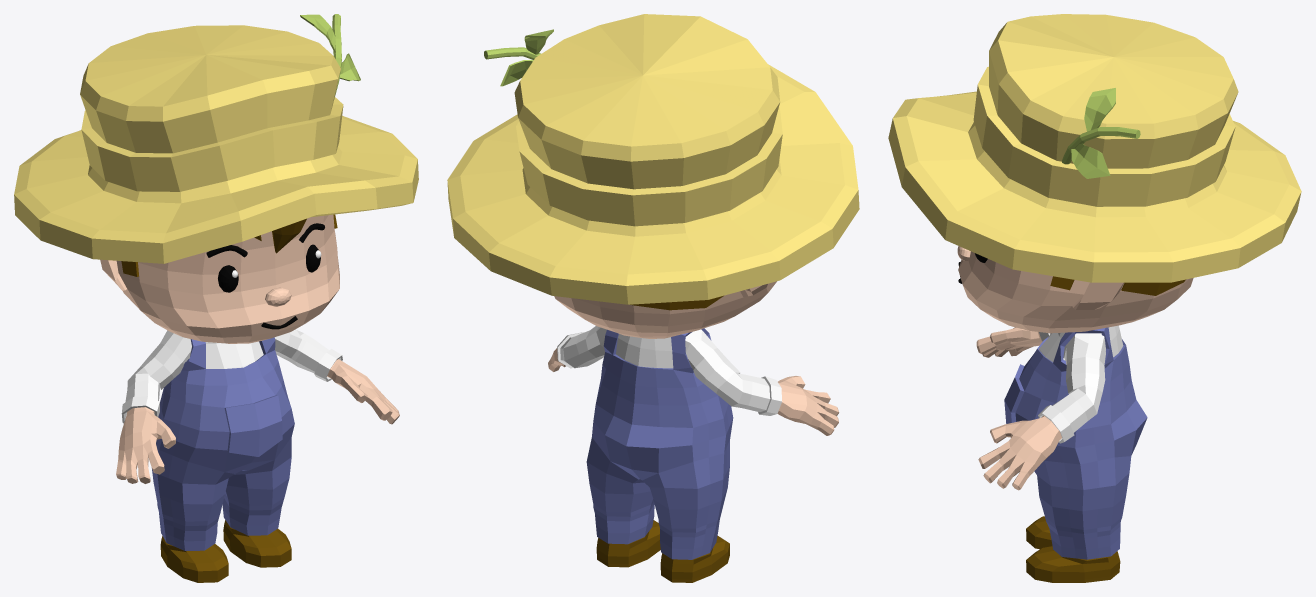
Rendered from Trial Character.glb.
3 renders of one model, left to right at view 1: azimuth 30°, elevation 25°; view 2: azimuth 150°, elevation 25°; view 3: azimuth 270°, elevation 25°, orthographic. The views are drawn at different scales.
Bounding box in the file's own units: 6.98 × 9.53 × 6.92.
